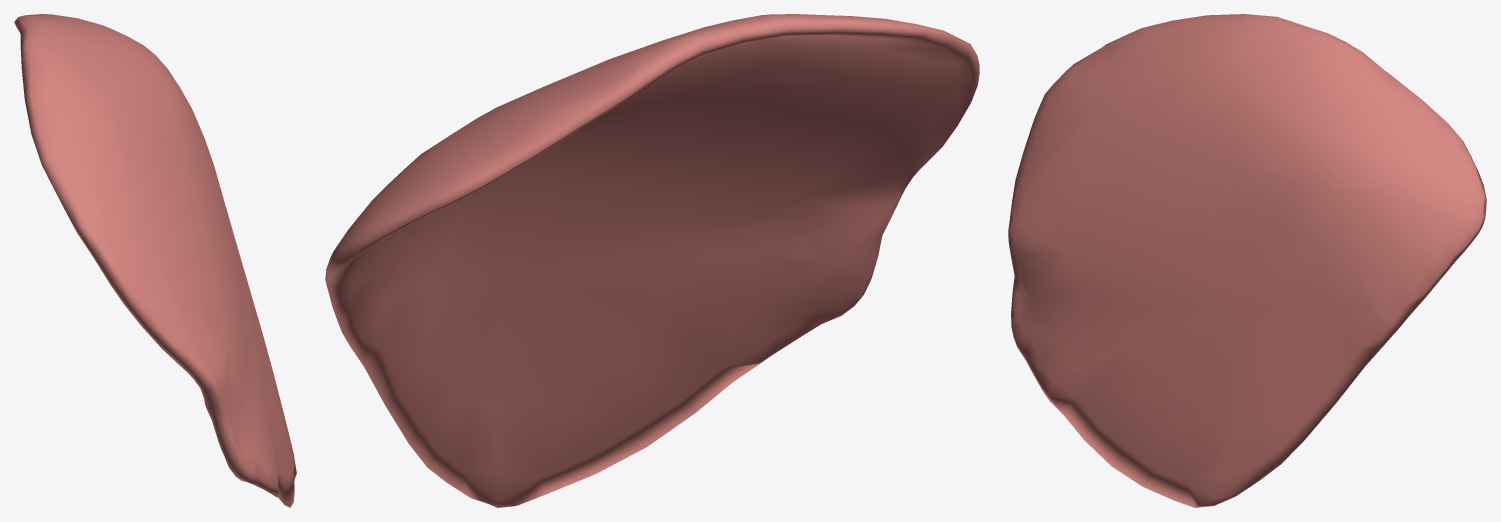
3 views of the same model, side by side, from view 1: azimuth 30°, elevation 25°; view 2: azimuth 150°, elevation 25°; view 3: azimuth 270°, elevation 25° (orthographic). The views are drawn at different scales.
Visible parts, largest first — view 1: ZA_34814b6f3763ecff; view 2: ZA_34814b6f3763ecff; view 3: ZA_34814b6f3763ecff.
Boxes of the visible parts, box(x1,y1,x2,y2) form: ZA_34814b6f3763ecff: box(14, 14, 296, 507); ZA_34814b6f3763ecff: box(325, 14, 979, 507); ZA_34814b6f3763ecff: box(1008, 14, 1486, 507).
Bounding box in the file's own units: 0.0107 × 0.0152 × 0.0165.
